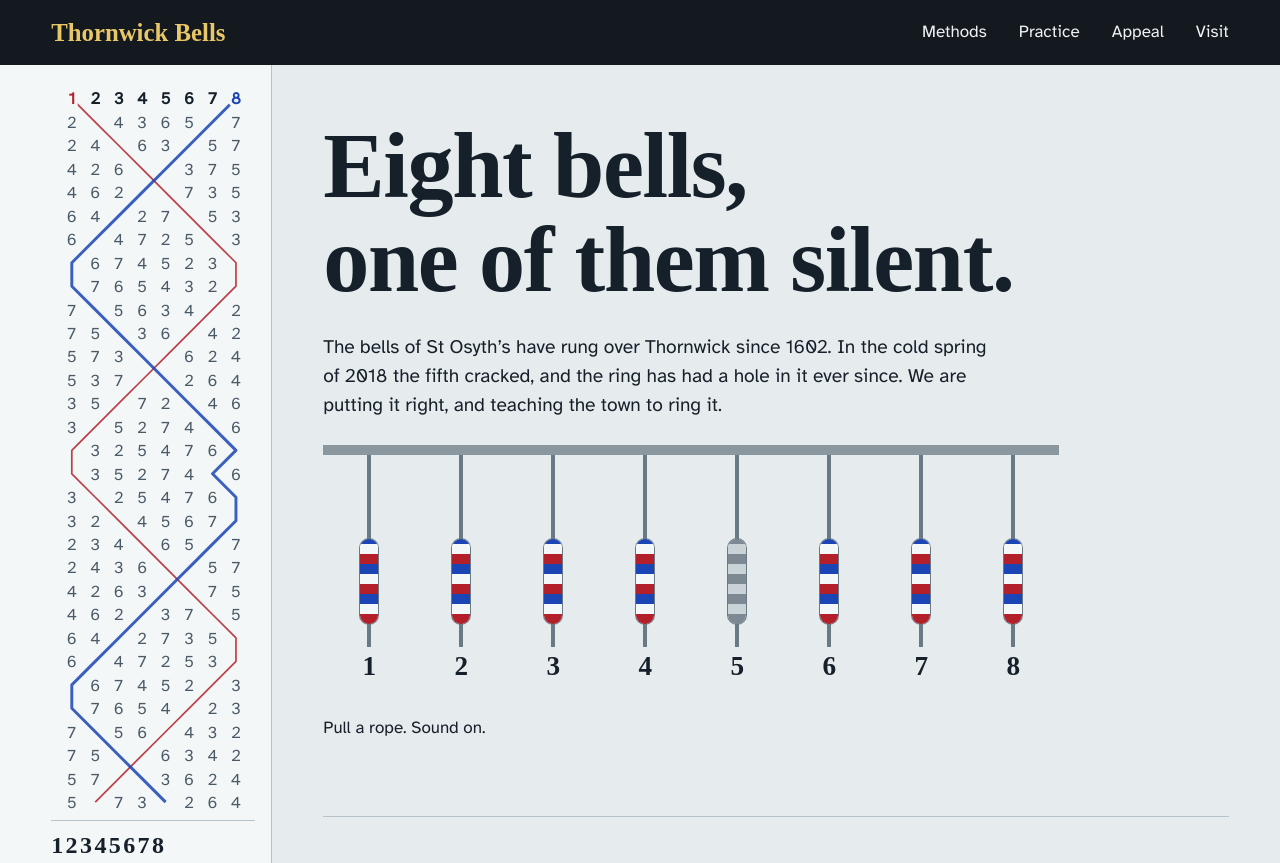
Scenario: front page › keeps Mercy silent
The width and height of the screenshot is (1280, 863).
Click the button named "Ring bell 5, Mercy" at x=737, y=572, box [691, 455, 783, 688]
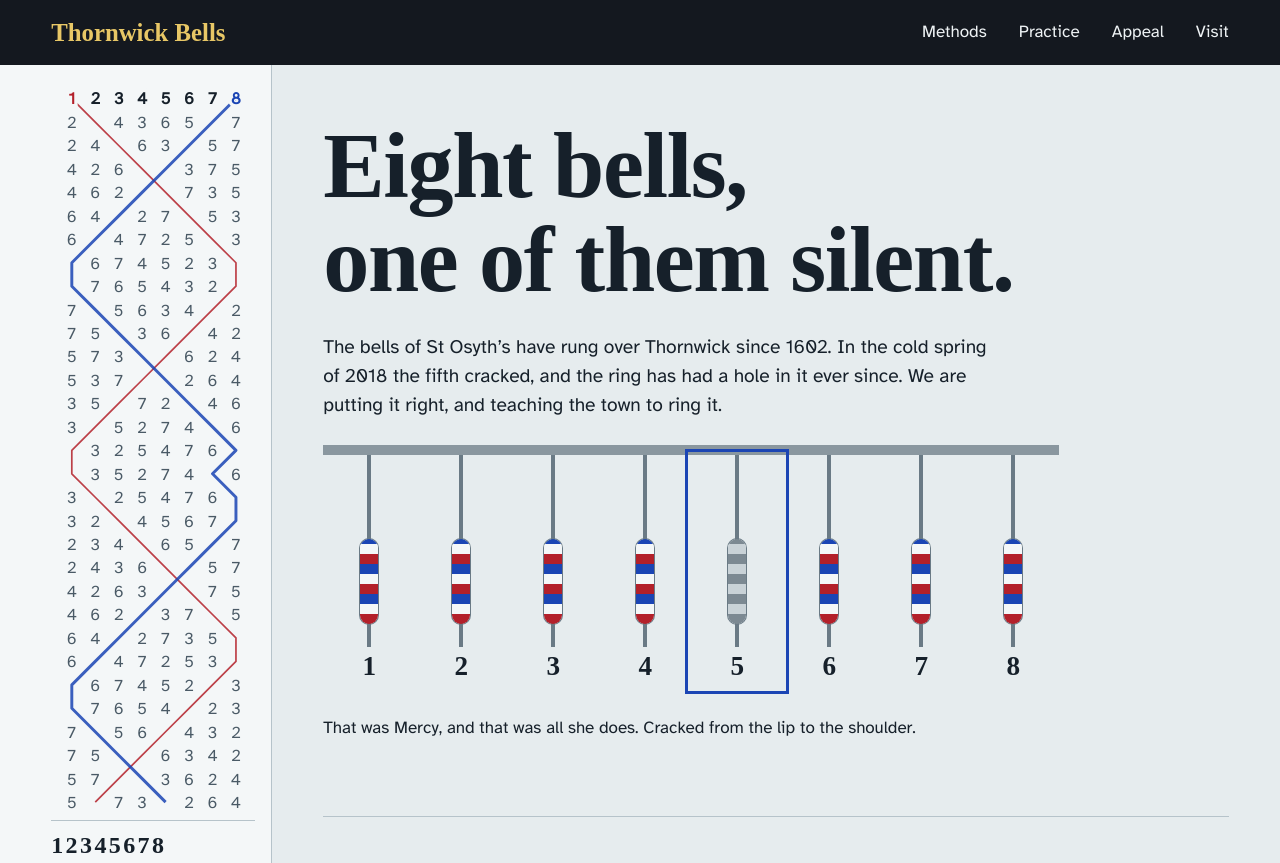
expect the text "all she does" is shown: met, box [323, 717, 916, 738]
